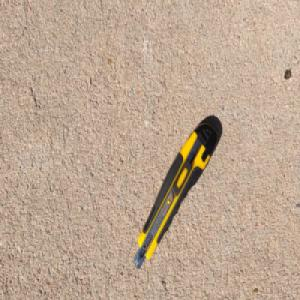Cutter: (132, 119, 219, 271)
